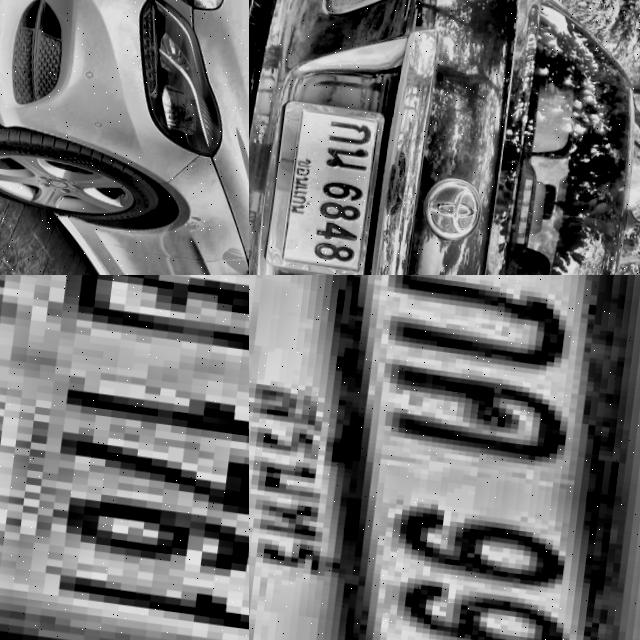license-plate: (249, 275, 640, 640), (0, 275, 249, 640), (262, 96, 388, 275)
